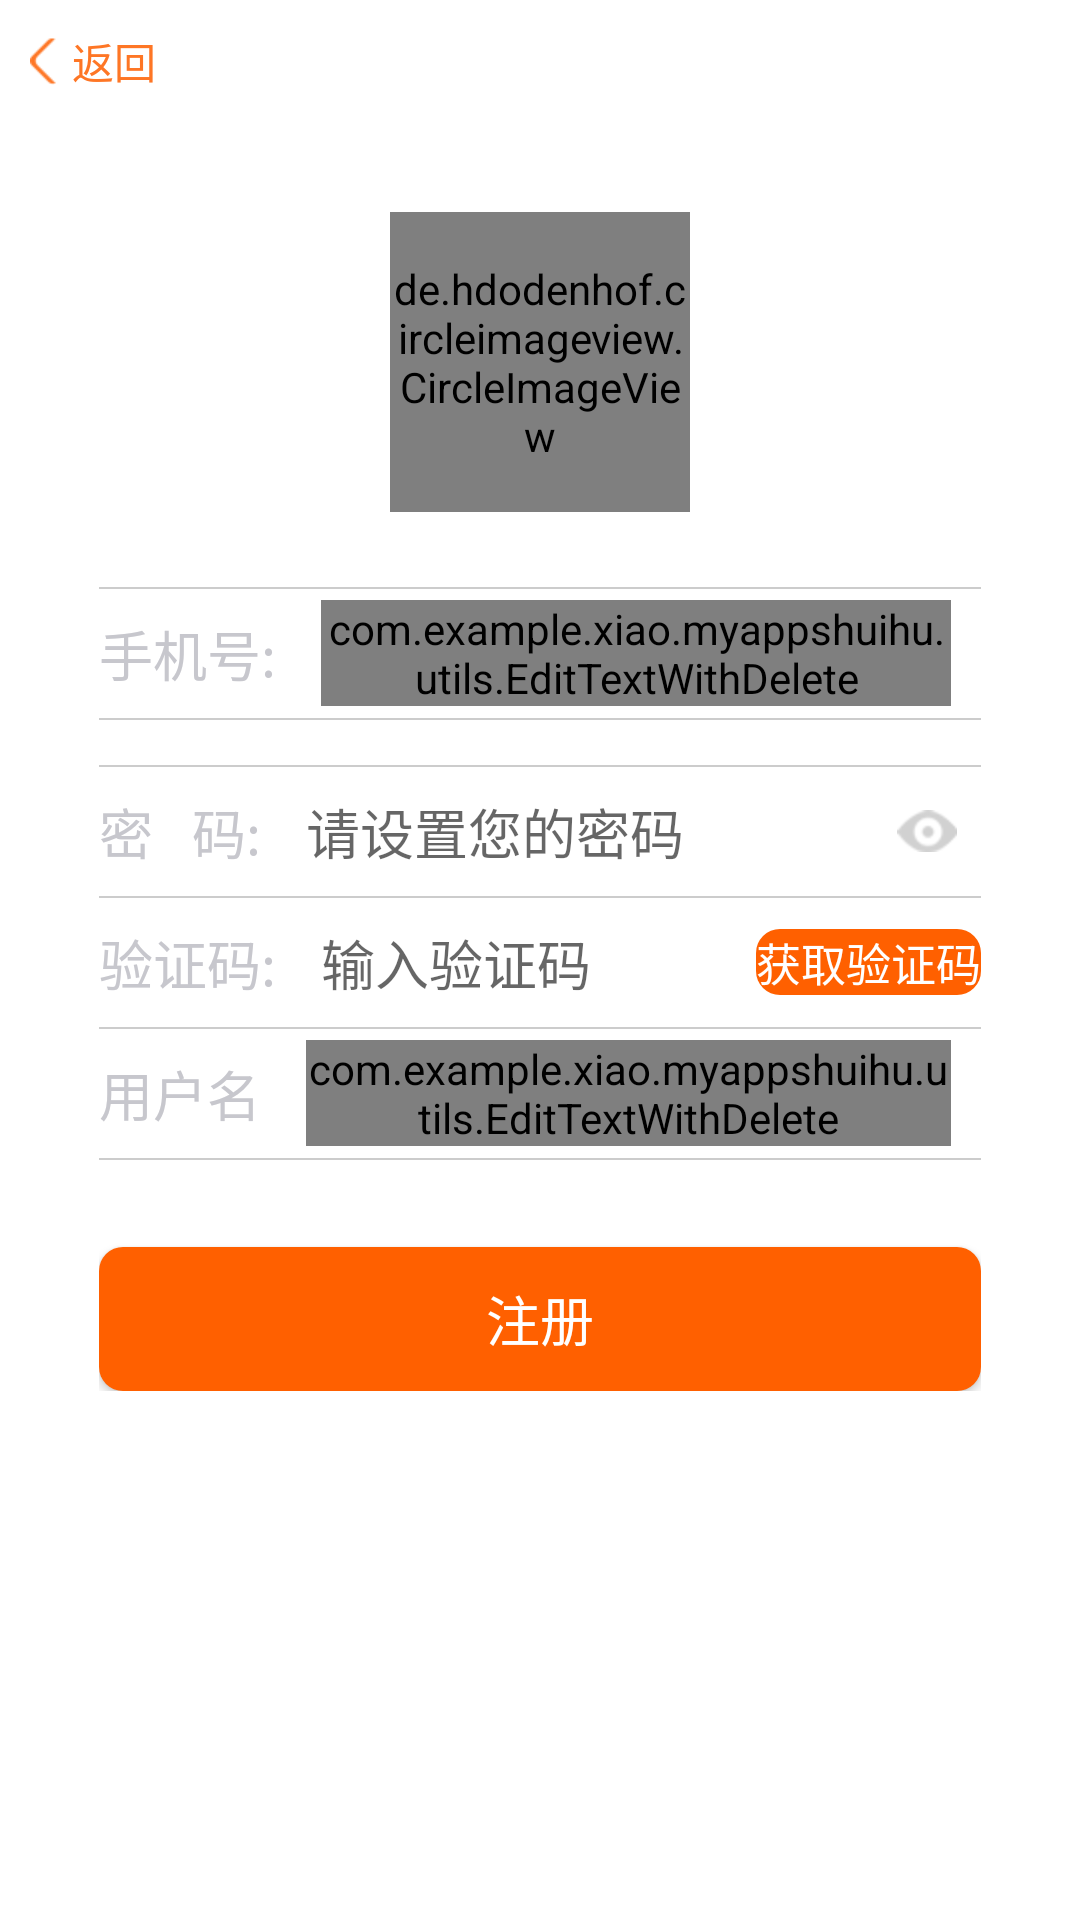

Locate icon controls on the screen. Image size 1080 × 1920, boxes as (x1, y1, x2, y2).
eye: (897, 810, 957, 852)
